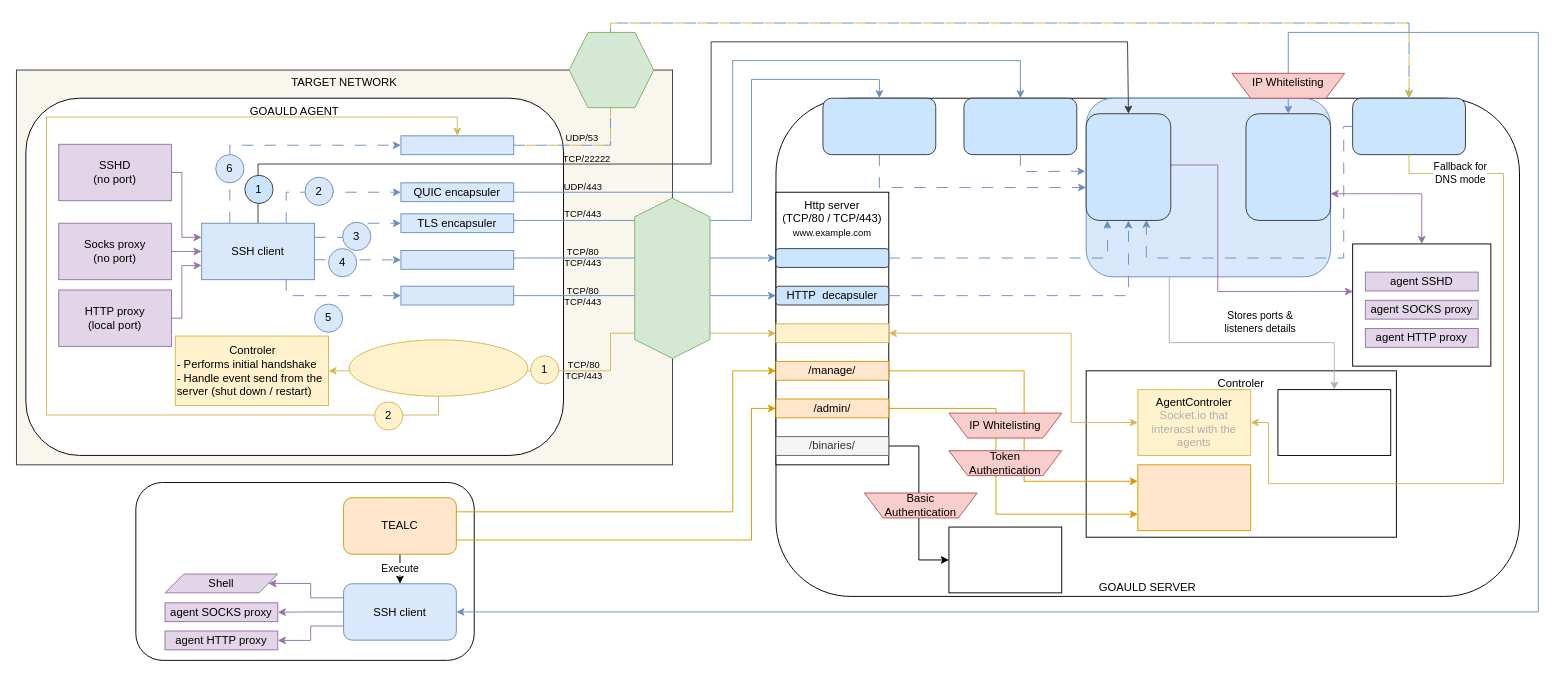
This 1563x677 diagram has some shape labels left out. Here are the shapes that lost their labels. From the top down, the box of each, then its label:
(568, 31, 654, 108): (optionnal) DNS server
(400, 135, 514, 155): DNS encapsuler
(822, 97, 936, 155): app.example.com TLS decapsuler (TCP/443)
(963, 97, 1077, 155): QUIC decapsuler (UDP/443)
(1352, 97, 1465, 155): t.example.com DNS decapsuler (UDP/53)
(1085, 113, 1171, 220): Agents : public key authentication
(1245, 113, 1331, 220): Clients : password authentication (rotate each connection)
(1085, 97, 1331, 277): SSH SERVER (TCP/22222)
(400, 250, 514, 269): WS encapsuler
(634, 197, 710, 358): HTTP PROXY
(775, 248, 889, 267): WS decapsuler
(400, 285, 514, 305): HTTP encapsuler
(1352, 243, 1491, 366): Server Loopback
(775, 323, 889, 343): /live/
(348, 339, 528, 396): 1. HTTP long polling / Websocket 2. DNS
(1277, 389, 1391, 455): AgentStore Tracks all internal connected agents
(1137, 464, 1251, 531): Api controler Api that interacts with the clients (tealc)
(135, 482, 474, 660): Laptop
(948, 526, 1062, 593): Agent binaries download
